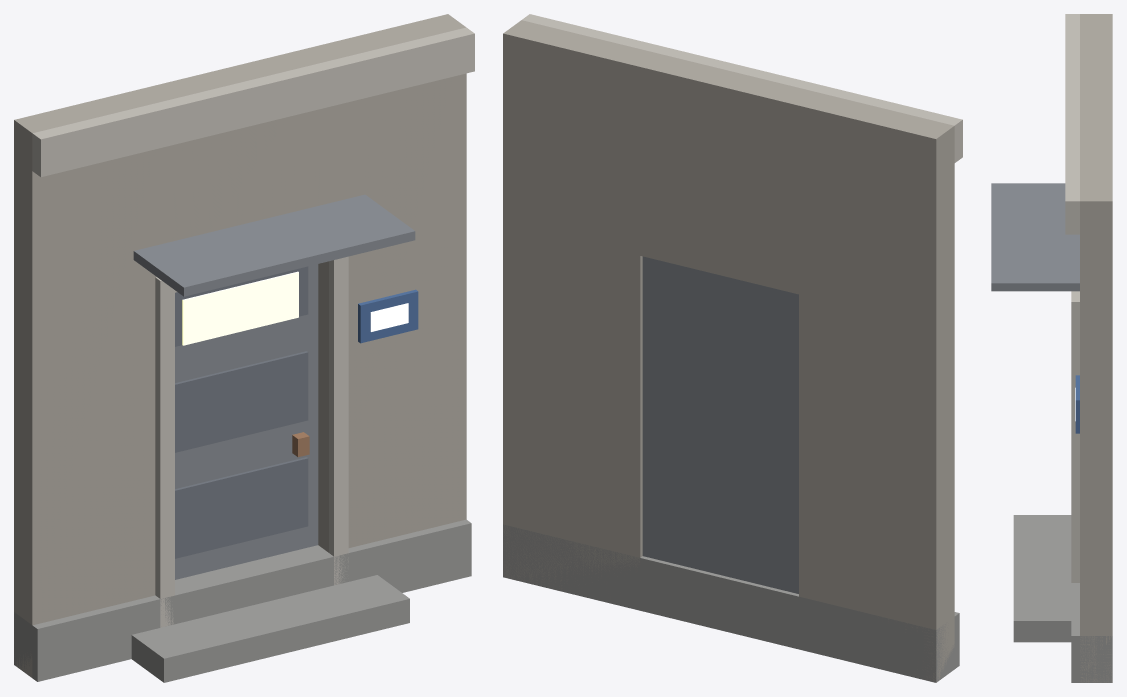
Rendered from ground_door.glb.
3 views of the same model, side by side, from view 1: azimuth 30°, elevation 25°; view 2: azimuth 150°, elevation 25°; view 3: azimuth 270°, elevation 25° (orthographic). The views are drawn at different scales.
Parts seen in each view (by area): view 1: ground_door; view 2: ground_door; view 3: ground_door.
Part boxes in pixels (x1,y1,x2,y2): ground_door: (14,14,474,682); ground_door: (503,14,962,682); ground_door: (991,14,1112,682).
Size of the model in its own units: 3 by 3.6 by 0.82.
